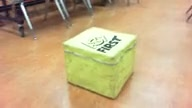cube: (63, 27, 138, 100)
